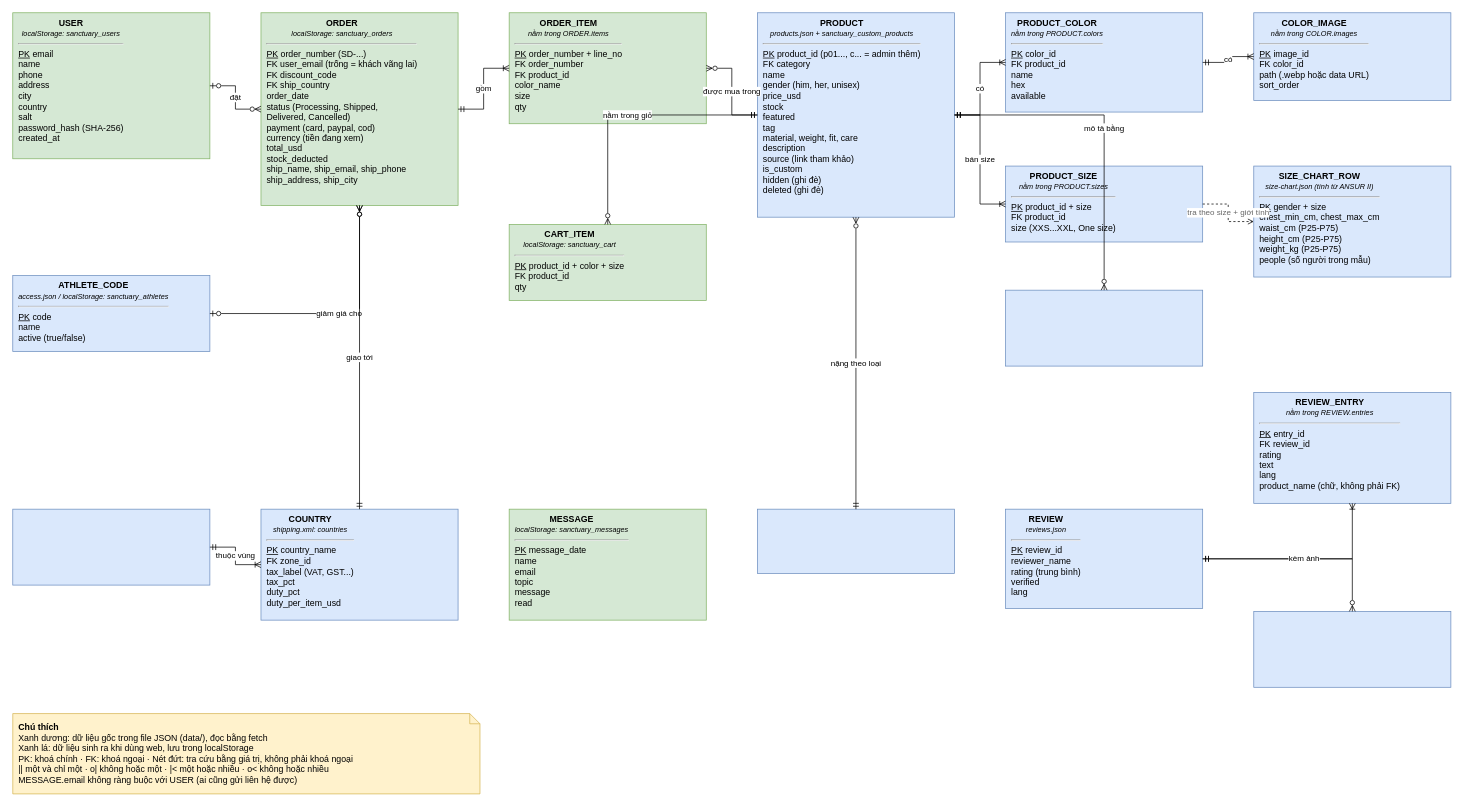
This 1464x807 diagram has some shape labels left out. The box of each missing label's shape, as (x1, y1, x2, y2) in pixels:
CATEGORY_WEIGHT shipping.xml: categoryKg PK category weight_kg: (757, 508, 954, 573)
PRODUCT_FEATURE nằm trong PRODUCT.features PK feature_id FK product_id text: (1005, 289, 1203, 366)
REVIEW_IMAGE nằm trong REVIEW.images PK image_id FK review_id path: (1253, 611, 1451, 687)
SHIPPING_ZONE shipping.xml: zones PK zone_id base_usd per_kg_usd: (12, 508, 210, 585)
